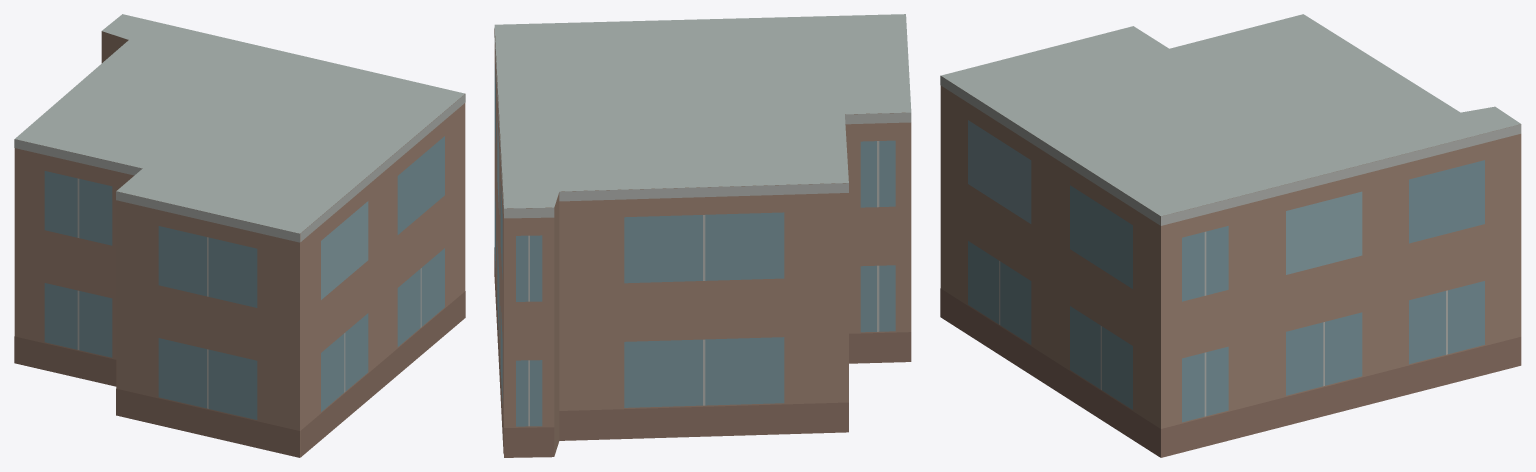
Rendered from survey-upis-32612455.glb.
The picture shows the model from 3 angles, left to right: view 1: azimuth 30°, elevation 25°; view 2: azimuth 150°, elevation 25°; view 3: azimuth 270°, elevation 25°; orthographic projection. The views are drawn at different scales.
Visible parts, largest first — view 1: survey-upis-32612455.tmp; view 2: survey-upis-32612455.tmp; view 3: survey-upis-32612455.tmp.
Part boxes in pixels (x1,y1,x2,y2): survey-upis-32612455.tmp: (14, 14, 465, 457); survey-upis-32612455.tmp: (494, 14, 911, 457); survey-upis-32612455.tmp: (940, 14, 1521, 457).
Size of the model in its own units: 10.97 by 6.1 by 13.3.
